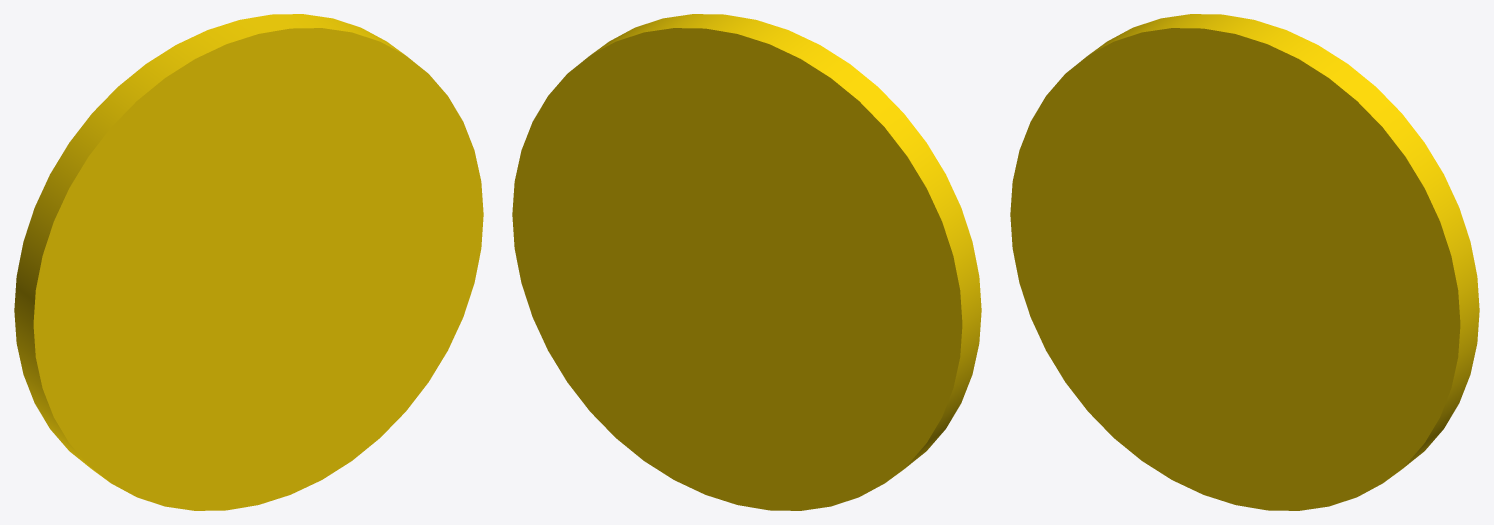
The model's file is bitcoin.glb.
The picture shows the model from 3 angles, left to right: view 1: azimuth 30°, elevation 25°; view 2: azimuth 150°, elevation 25°; view 3: azimuth 330°, elevation 25°; orthographic projection.
Parts seen in each view (by area): view 1: Cylinder002__0; view 2: Cylinder002__0; view 3: Cylinder002__0.
Boxes of the visible parts, x1,y1,x2,y2 form: Cylinder002__0: (14, 14, 483, 510); Cylinder002__0: (512, 14, 981, 510); Cylinder002__0: (1010, 14, 1479, 510).
Bounding box in the file's own units: 70.77 × 70.77 × 5.22.
